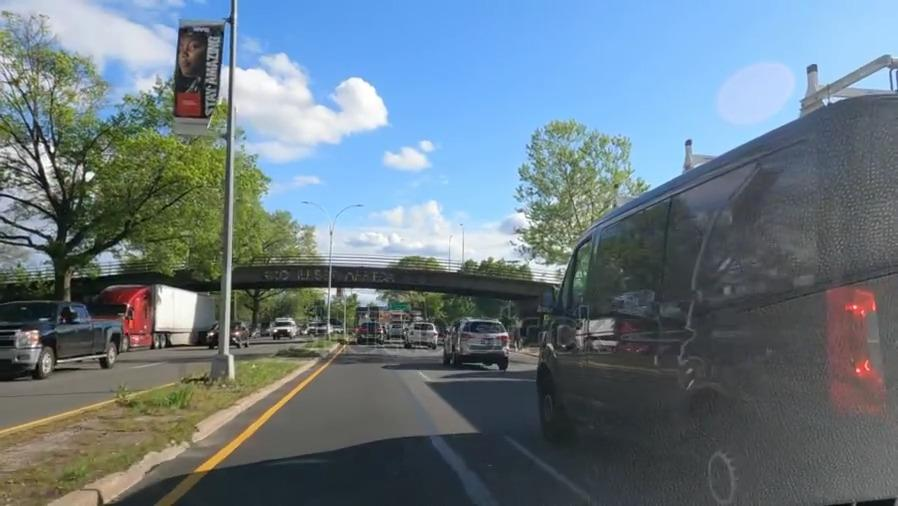car: (3, 301, 130, 374), (442, 317, 507, 370), (211, 322, 252, 347), (403, 321, 441, 345), (354, 321, 387, 343)
truck: (87, 285, 218, 344)
van: (559, 95, 897, 498), (267, 317, 295, 339)
wheel: (678, 415, 770, 506), (532, 360, 567, 447), (33, 349, 61, 375), (101, 341, 118, 366)
